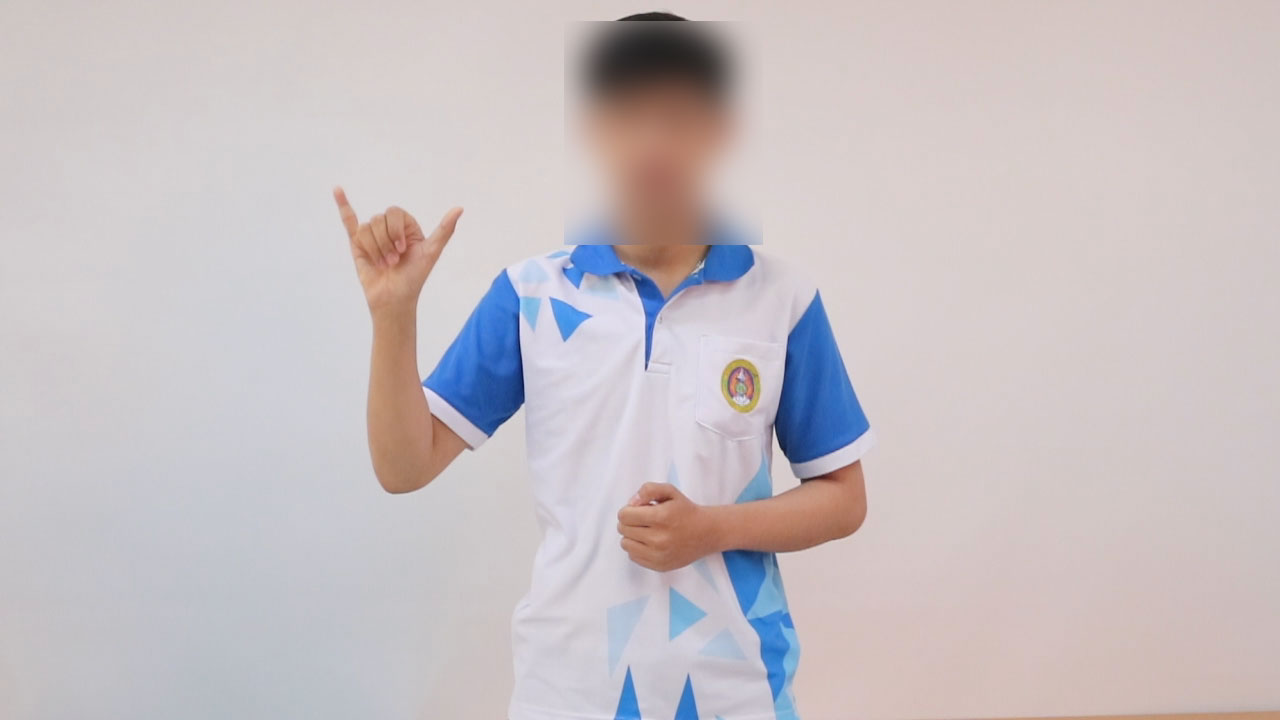yor: (321, 182, 470, 318)
